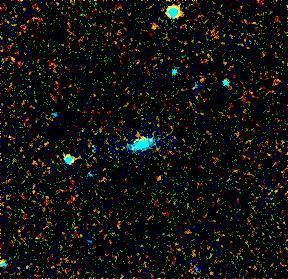star: (140, 10, 170, 40)
